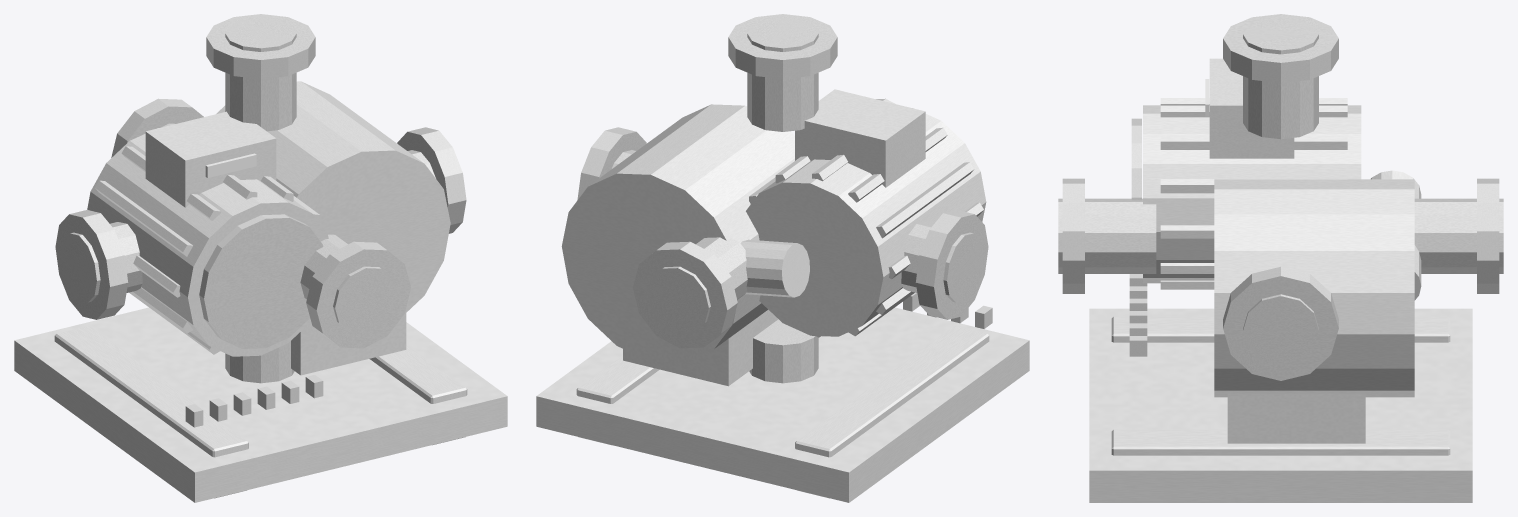
File: industrialpump.obj
3 renders of one model, left to right at view 1: azimuth 30°, elevation 25°; view 2: azimuth 150°, elevation 25°; view 3: azimuth 270°, elevation 25°, orthographic. The views are drawn at different scales.
Parts seen in each view (by area): view 1: Base, Motor, Pump, Vents, Port1, Port3, Port4, Port5, Port2, Port0, Indicator; view 2: Base, Pump, Motor, Port2, Port1, Port4, Port0, Port5, Vents; view 3: Base, Pump, Motor, Port1, Port5, Port3, Port2, Vents.
Part boxes in pixels (<box>): Base: <box>14,307,507,502</box>; Motor: <box>87,111,328,356</box>; Pump: <box>216,81,450,375</box>; Vents: <box>185,214,323,427</box>; Port1: <box>206,14,315,131</box>; Port3: <box>300,234,410,348</box>; Port4: <box>55,210,142,319</box>; Port5: <box>397,127,466,233</box>; Port2: <box>111,98,203,157</box>; Port0: <box>225,341,294,383</box>; Indicator: <box>205,153,256,177</box>; Base: <box>536,307,1029,502</box>; Pump: <box>561,104,809,386</box>; Motor: <box>746,89,986,337</box>; Port2: <box>633,237,747,348</box>; Port1: <box>728,14,837,131</box>; Port4: <box>901,210,988,319</box>; Port0: <box>749,319,818,383</box>; Port5: <box>577,127,646,199</box>; Vents: <box>903,292,992,328</box>; Base: <box>1089,308,1472,502</box>; Pump: <box>1214,170,1421,443</box>; Motor: <box>1143,58,1361,289</box>; Port1: <box>1223,14,1338,139</box>; Port5: <box>1223,266,1338,380</box>; Port3: <box>1058,178,1156,293</box>; Port2: <box>1414,178,1503,293</box>; Vents: <box>1129,118,1147,356</box>.
Size of the model in its own units: 1 by 1 by 1.
